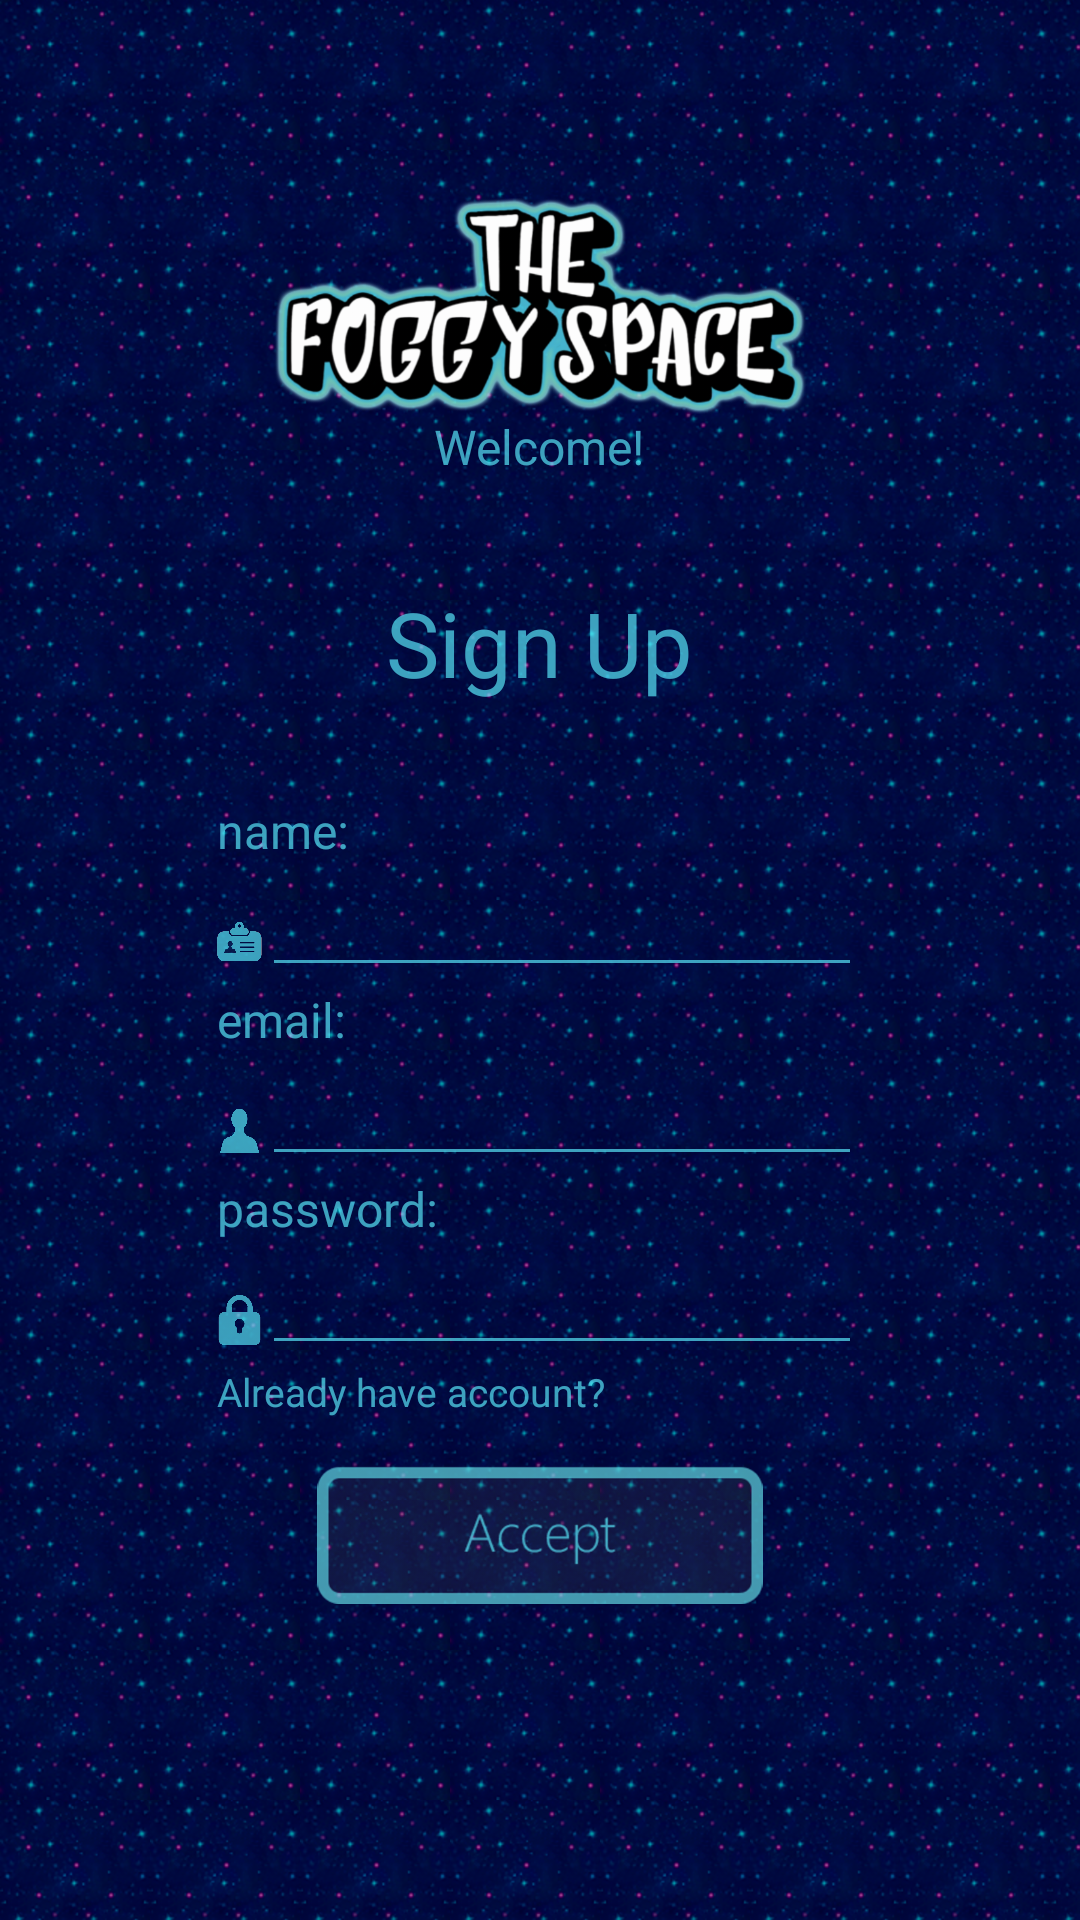

Locate icon controls on the screen. Image size 1080px x 1920px, boxes as (x1, y1, x2, y2).
lock: (218, 1292, 262, 1348)
person: (220, 1103, 262, 1160)
